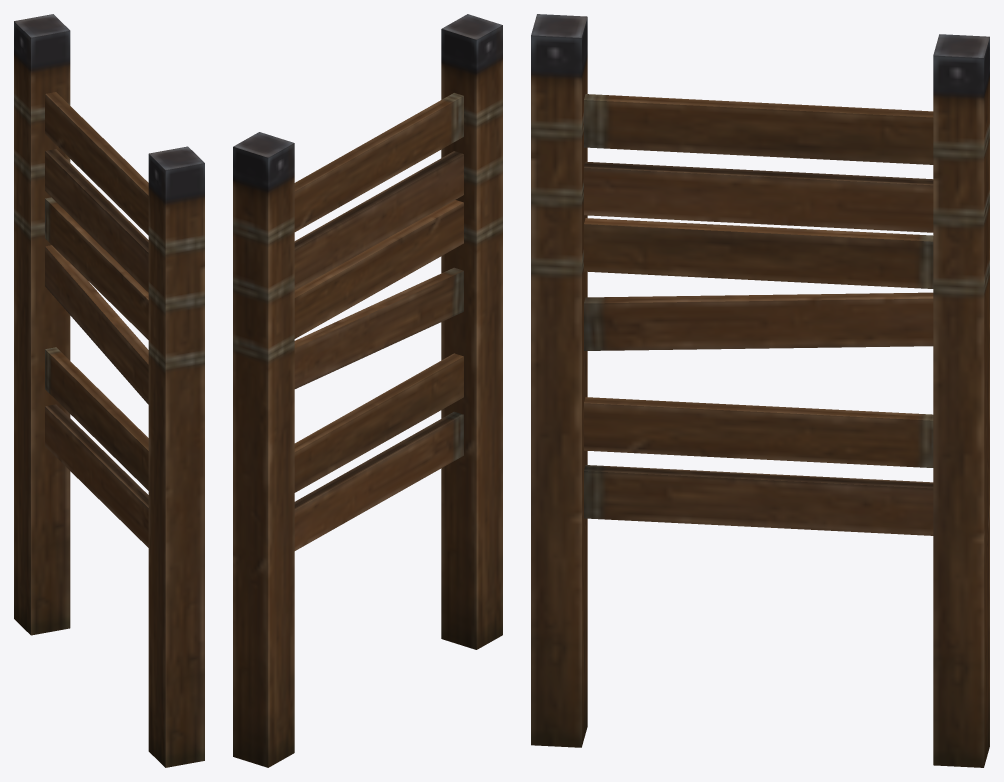
Rendered from Barrier4.fbx.
3 renders of one model, left to right at view 1: azimuth 30°, elevation 25°; view 2: azimuth 150°, elevation 25°; view 3: azimuth 270°, elevation 25°, orthographic. The views are drawn at different scales.
Parts seen in each view (by area): view 1: Barrier4; view 2: Barrier4; view 3: Barrier4.
Part boxes in pixels (x1,y1,x2,y2): Barrier4: (14,14,204,767); Barrier4: (233,14,502,767); Barrier4: (531,14,989,767).
Size of the model in its own units: 61.06 by 458 by 269.
1 material, 1 textured.
